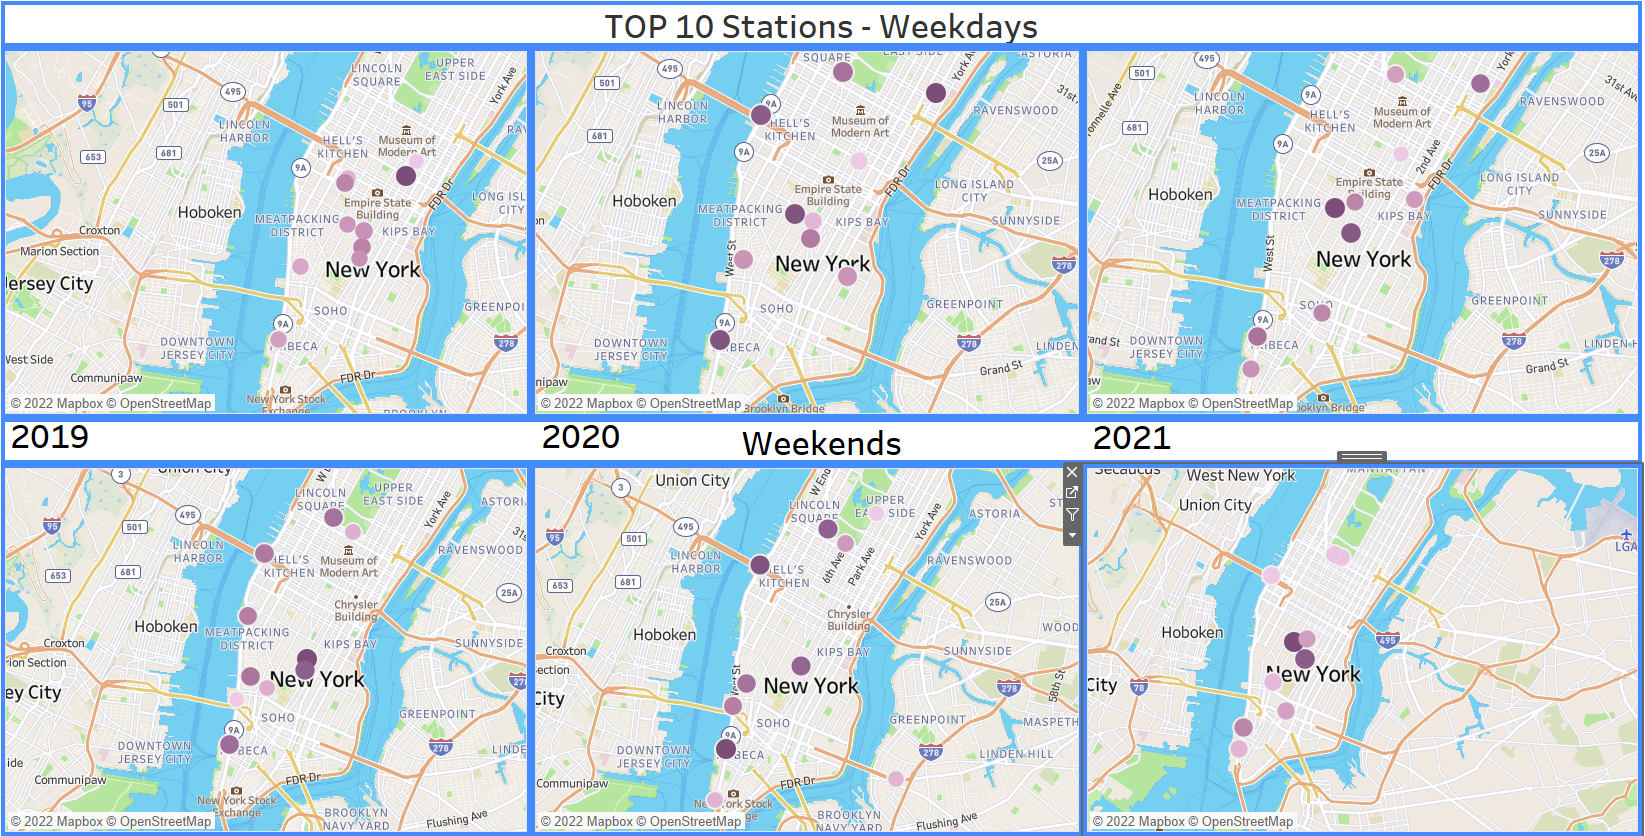

The dashboard page shown, as its layout file describes it:
{"tool":"tableau","page":{"name":"popular stations","canvas":[1000,1000],"units":"permille","ordinal":3},"visuals":[{"type":"title","box":[4.8,9.4,990.3,54.1]},{"type":"worksheet","title":"map 2019 1","mark":"Automatic","rows":["start_lat"],"cols":["start_lng"],"box":[4.8,63.5,320,435.4]},{"type":"worksheet","title":"map 2020 1","mark":"Automatic","rows":["start_lat"],"cols":["start_lng"],"box":[324.9,63.5,333.1,435.4]},{"type":"worksheet","title":"map 2021 1","mark":"Automatic","rows":["start_lat"],"cols":["start_lng"],"box":[658,63.5,337.2,435.4]},{"type":"text","box":[8.4,497.1,51.3,42.3]},{"type":"text","box":[4.8,498.8,990.3,54.2]},{"type":"text","box":[328.9,499.4,51.9,38.8]},{"type":"text","box":[661.4,499.4,55.5,41.1]},{"type":"worksheet","title":"map 2019 0","mark":"Automatic","rows":["start_lat"],"cols":["start_lng"],"box":[4.8,553.1,320,437.5]},{"type":"worksheet","title":"map 2020 0","mark":"Automatic","rows":["start_lat"],"cols":["start_lng"],"box":[324.9,553.1,333.1,437.5]},{"type":"worksheet","title":"map 2021 0","mark":"Automatic","rows":["start_lat"],"cols":["start_lng"],"box":[658,553.1,337.2,437.5]}]}

Visuals, with their boxes on the dashboard's canvas, which has no fixed pixel size, in thousandths of its width and height (x1, y1, x2, y2). These are canvas units, not pixel positions in the 1645x836 screenshot, which may show the page scaled, cropped or inside an application window:
title: {"x1": 5, "y1": 9, "x2": 995, "y2": 64}
"map 2019 1" worksheet: {"x1": 5, "y1": 64, "x2": 325, "y2": 499}
"map 2020 1" worksheet: {"x1": 325, "y1": 64, "x2": 658, "y2": 499}
"map 2021 1" worksheet: {"x1": 658, "y1": 64, "x2": 995, "y2": 499}
text: {"x1": 8, "y1": 497, "x2": 60, "y2": 539}
text: {"x1": 5, "y1": 499, "x2": 995, "y2": 553}
text: {"x1": 329, "y1": 499, "x2": 381, "y2": 538}
text: {"x1": 661, "y1": 499, "x2": 717, "y2": 540}
"map 2019 0" worksheet: {"x1": 5, "y1": 553, "x2": 325, "y2": 991}
"map 2020 0" worksheet: {"x1": 325, "y1": 553, "x2": 658, "y2": 991}
"map 2021 0" worksheet: {"x1": 658, "y1": 553, "x2": 995, "y2": 991}
